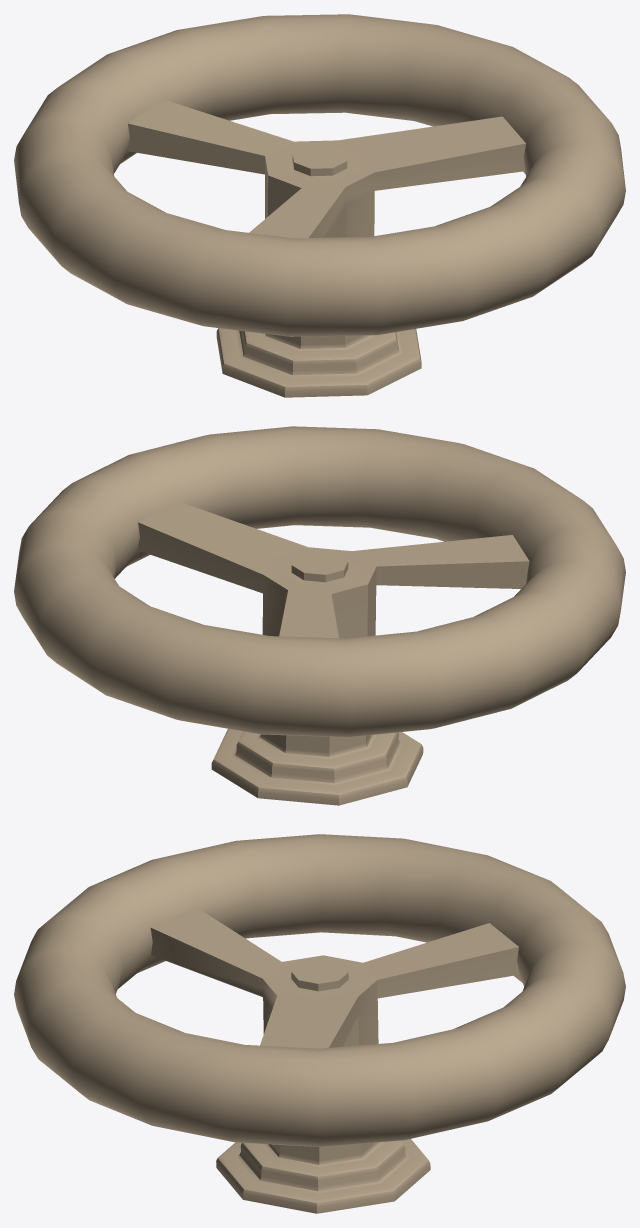
The model's file is Valve.fbx.
3 views of the same model, one above another, from view 1: azimuth 30°, elevation 25°; view 2: azimuth 150°, elevation 25°; view 3: azimuth 270°, elevation 25° (orthographic).
Parts seen in each view (by area): view 1: Valve3; view 2: Valve3; view 3: Valve3.
Boxes of the visible parts, left/top/right/bottom form: Valve3: left=14, top=14, right=625, bottom=397; Valve3: left=14, top=426, right=625, bottom=805; Valve3: left=14, top=834, right=625, bottom=1213.
Bounding box in the file's own units: 24.53 × 10.09 × 24.52.
